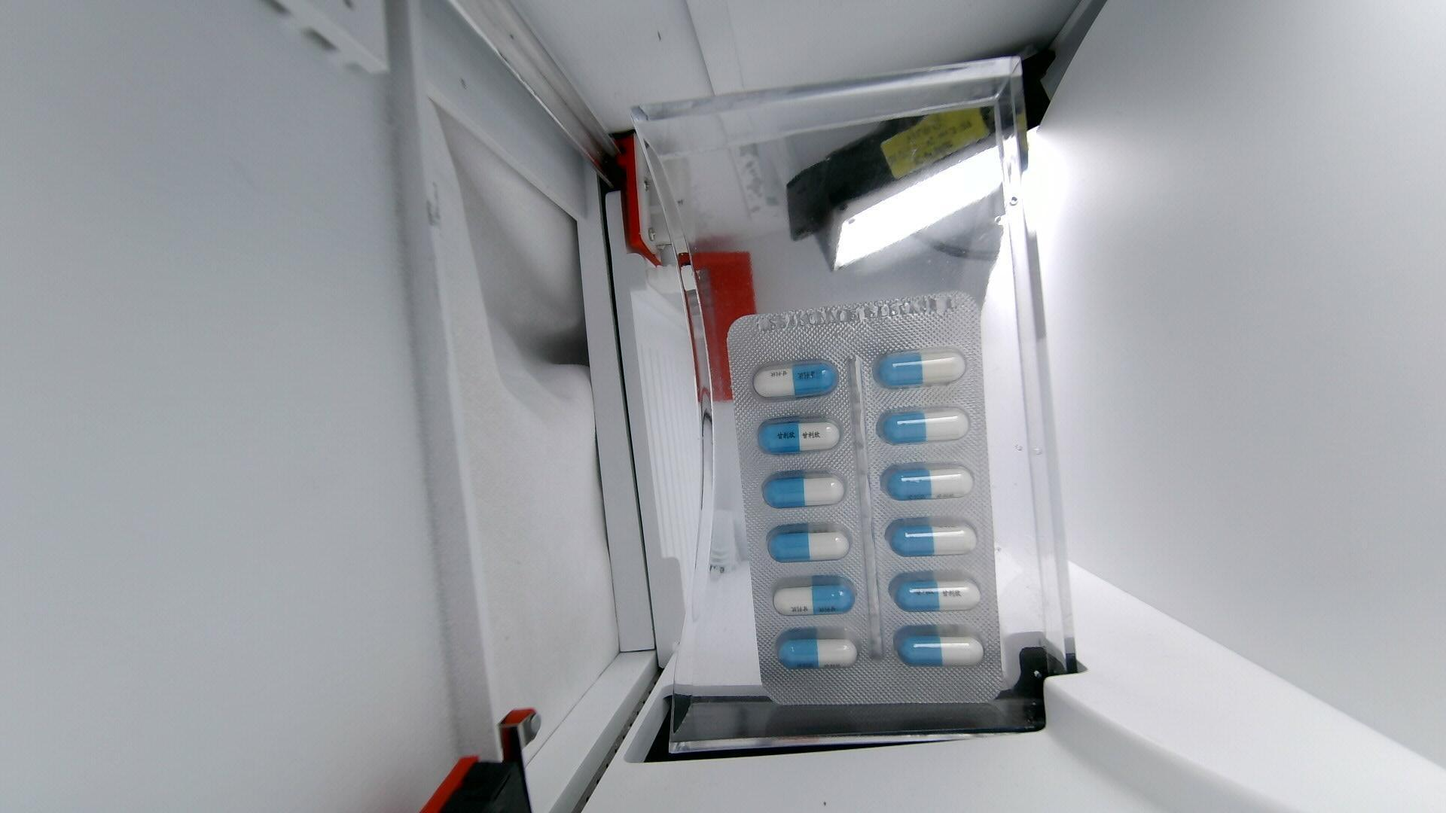Light Front: (730, 296, 1006, 705)
Pill Front: (874, 346, 966, 388), (889, 571, 980, 611), (894, 624, 982, 665), (885, 517, 976, 556), (877, 406, 969, 444), (881, 463, 973, 501), (777, 629, 858, 668), (774, 576, 855, 615), (753, 361, 838, 398), (764, 472, 844, 508), (758, 419, 840, 453), (770, 528, 849, 562)
